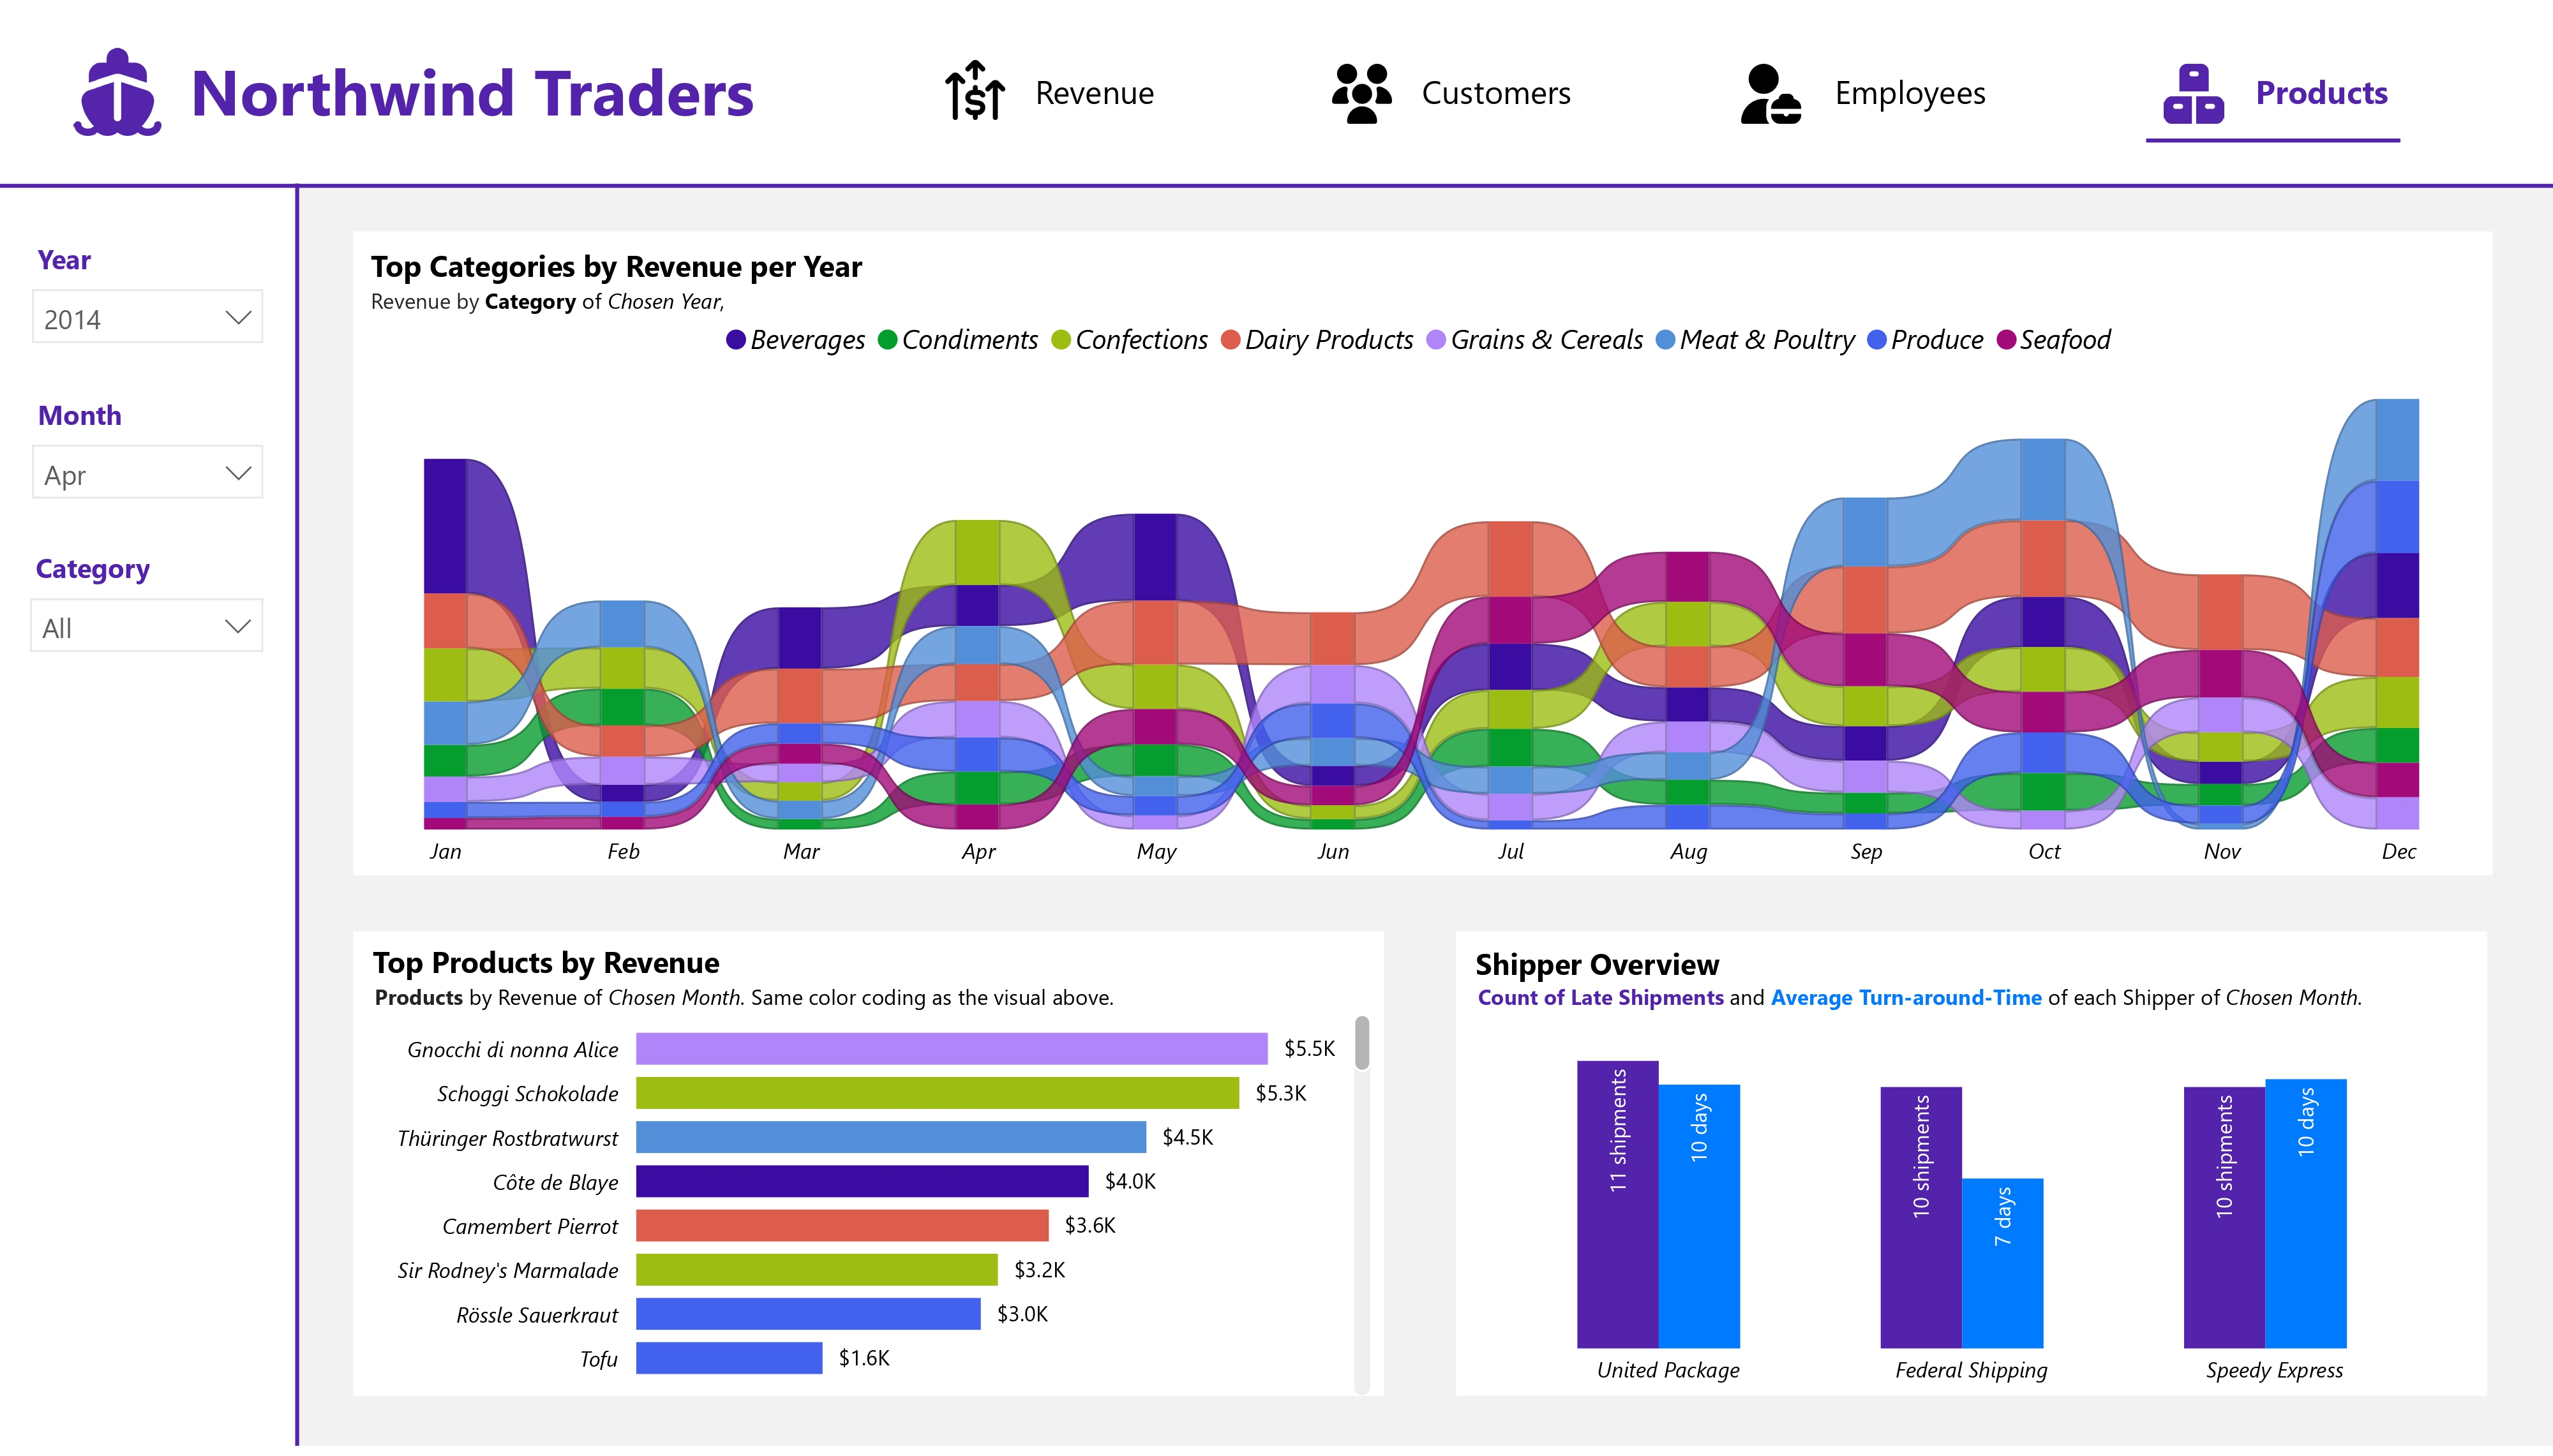

The page's visual inventory and layout, read from the dashboard file:
{"tool":"powerbi","page":{"name":"Products","canvas":[1280,720],"ordinal":3},"visuals":[{"type":"textbox","box":[90,9.1,310,53.3],"z":0},{"type":"textbox","box":[514,18.9,97.1,34.3],"z":1000},{"type":"image","box":[868.1,16,40,40],"z":2000},{"type":"textbox","box":[915.2,18.9,97.1,34.1],"z":5000},{"type":"textbox","box":[1126.1,18.9,96.9,33.8],"z":6000},{"type":"image","box":[468.7,13.3,40,40],"z":7000},{"type":"image","box":[32.2,11.1,54.4,54.4],"z":10000},{"type":"image","box":[663.3,16.2,40,40],"z":10001},{"type":"textbox","box":[708,19.2,97.1,34.1],"z":10002},{"type":"image","box":[1079.4,15.9,40,40],"z":10003},{"type":"shape","box":[1079.5,50.5,130,13],"z":10004}]}

Visuals, with their boxes in screenshot pixels (x1, y1, x2, y2), scaled from the page's 1280x720 canvas onto the 2553x1456 screenshot:
textbox: 179,19,798,126
textbox: 1025,38,1219,108
image: 1732,33,1811,113
textbox: 1825,38,2019,107
textbox: 2246,38,2439,107
image: 935,27,1015,108
image: 64,22,173,133
image: 1323,33,1403,114
textbox: 1412,39,1606,108
image: 2153,32,2233,113
shape: 2153,102,2413,128
